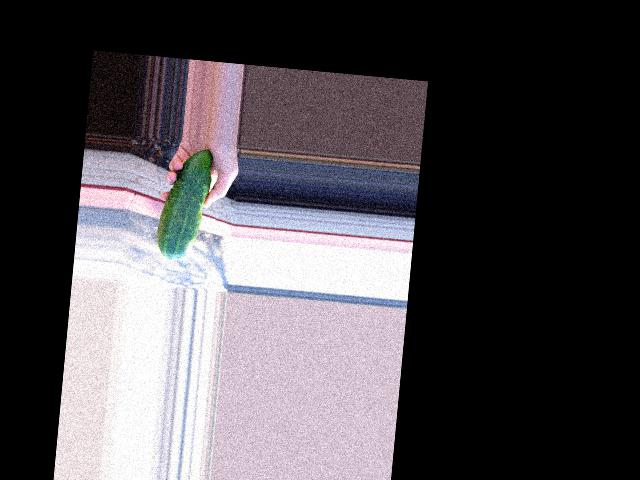cucumber: (154, 146, 213, 261)
